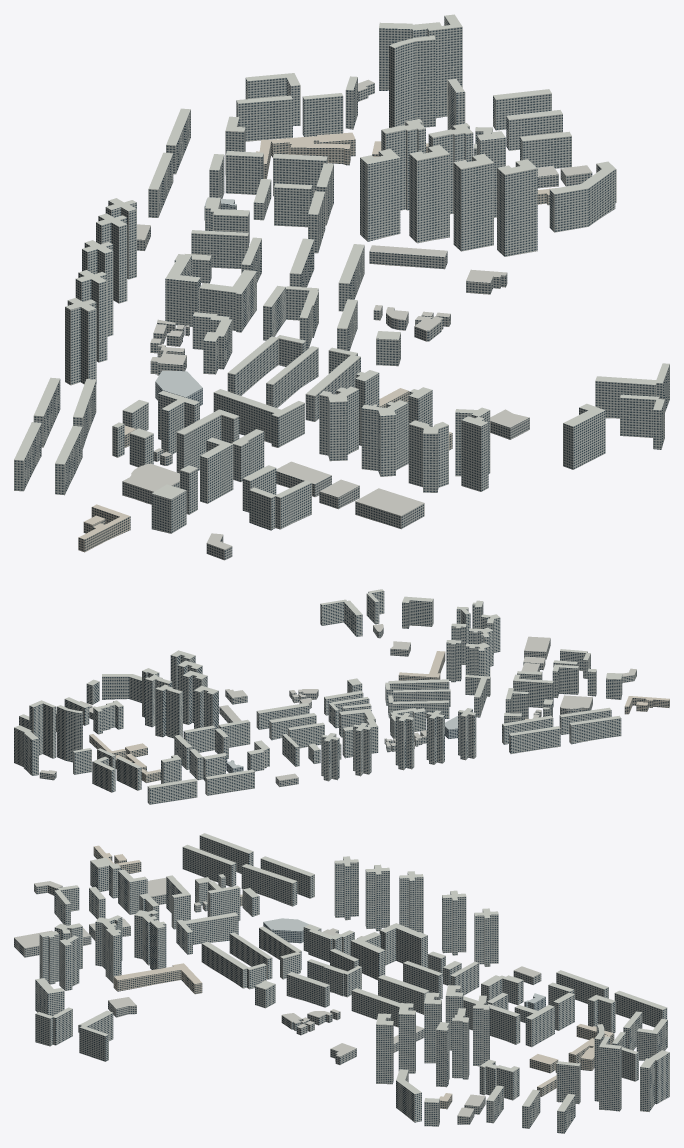
File: city_-1_3.glb
3 views of the same model, one above another, from view 1: azimuth 30°, elevation 25°; view 2: azimuth 150°, elevation 25°; view 3: azimuth 270°, elevation 25° (orthographic). The views are drawn at different scales.
Bounding box in the file's own units: 1040 × 119 × 1036.
Materials: 4 (4 with a texture image).
